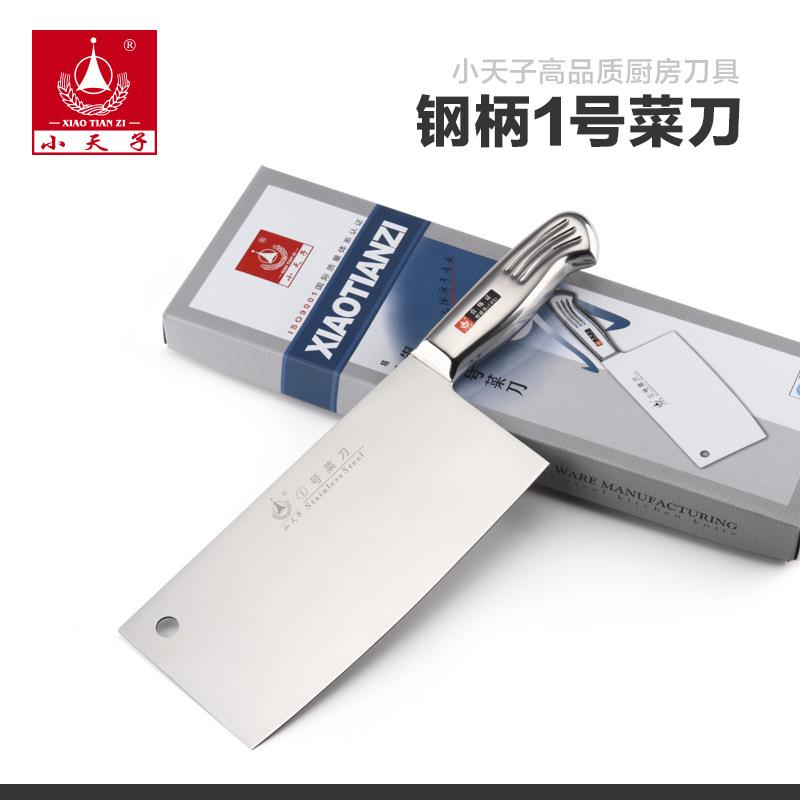knief: (150, 208, 637, 740)
